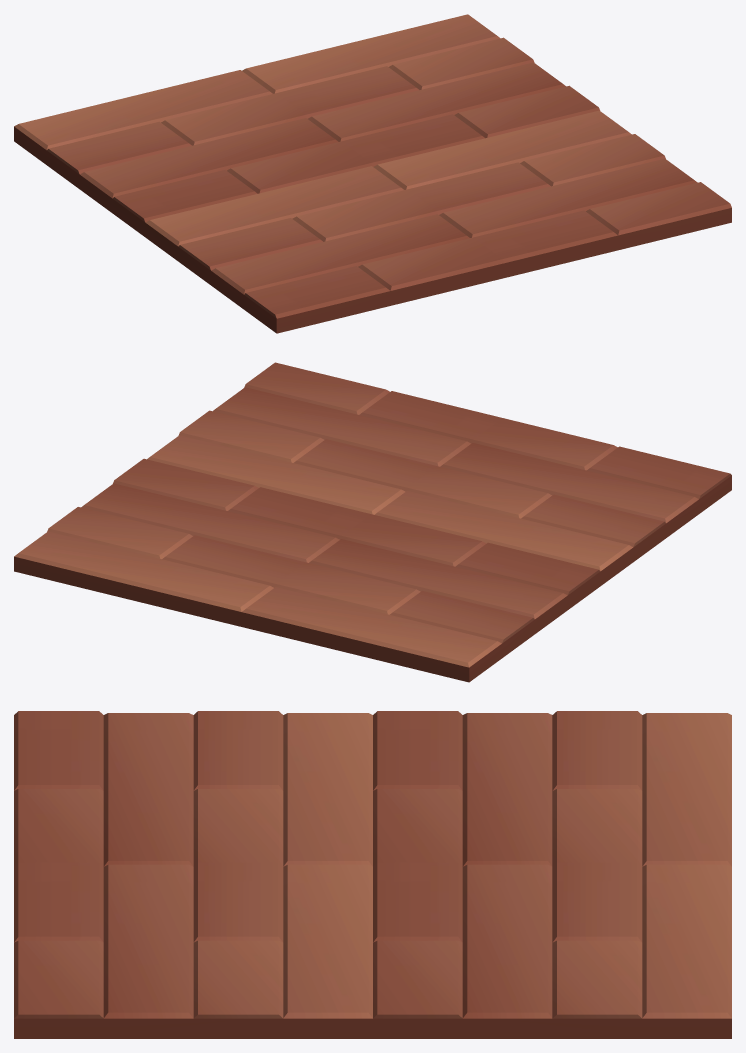
File: floor-wood.glb
The picture shows the model from 3 angles, top to bottom: view 1: azimuth 30°, elevation 25°; view 2: azimuth 150°, elevation 25°; view 3: azimuth 270°, elevation 25°; orthographic projection. The views are drawn at different scales.
Parts seen in each view (by area): view 1: floor_wood_large; view 2: floor_wood_large; view 3: floor_wood_large.
Boxes of the visible parts, x1,y1,x2,y2 form: floor_wood_large: (14, 14, 731, 333); floor_wood_large: (14, 362, 731, 682); floor_wood_large: (14, 711, 731, 1038).
Bounding box in the file's own units: 4 × 0.1499 × 4.
Materials: 1 (1 with a texture image).
